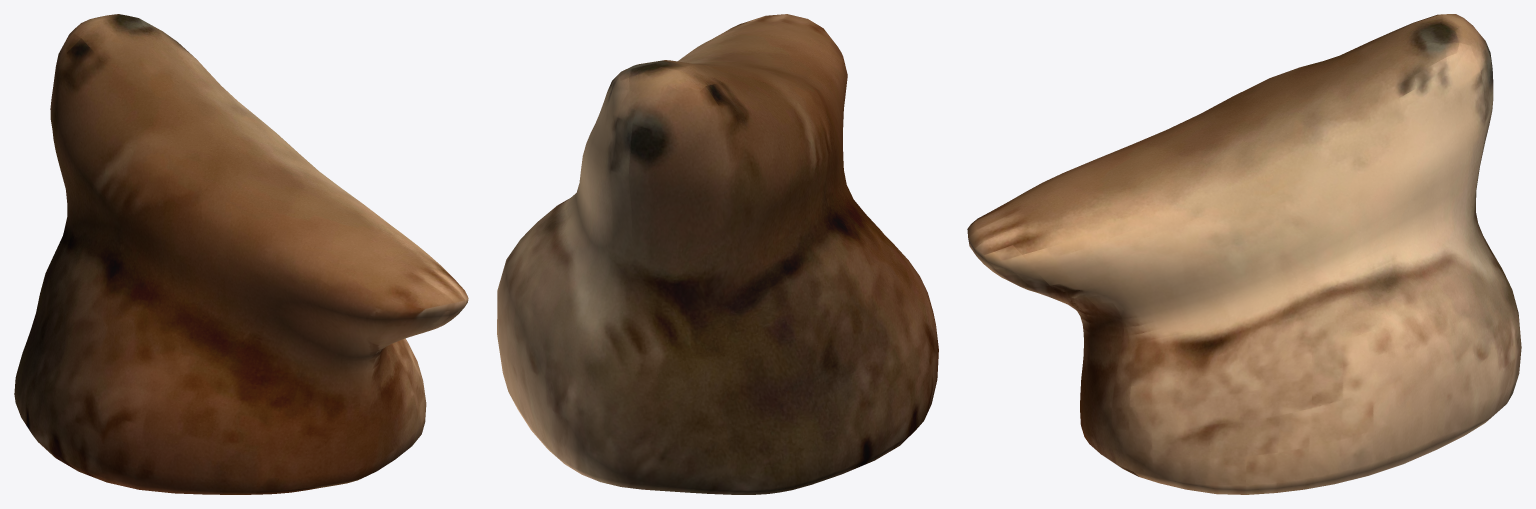
3 renders of one model, left to right at view 1: azimuth 30°, elevation 25°; view 2: azimuth 150°, elevation 25°; view 3: azimuth 270°, elevation 25°, orthographic. The views are drawn at different scales.
Parts seen in each view (by area): view 1: Тюлень; view 2: Тюлень; view 3: Тюлень.
Boxes of the visible parts, <box> form: Тюлень: <box>14,14,468,494</box>; Тюлень: <box>497,14,938,494</box>; Тюлень: <box>967,14,1521,494</box>.
Bounding box in the file's own units: 2.67 × 2.7 × 3.56.
Materials: 1 (1 with a texture image).
